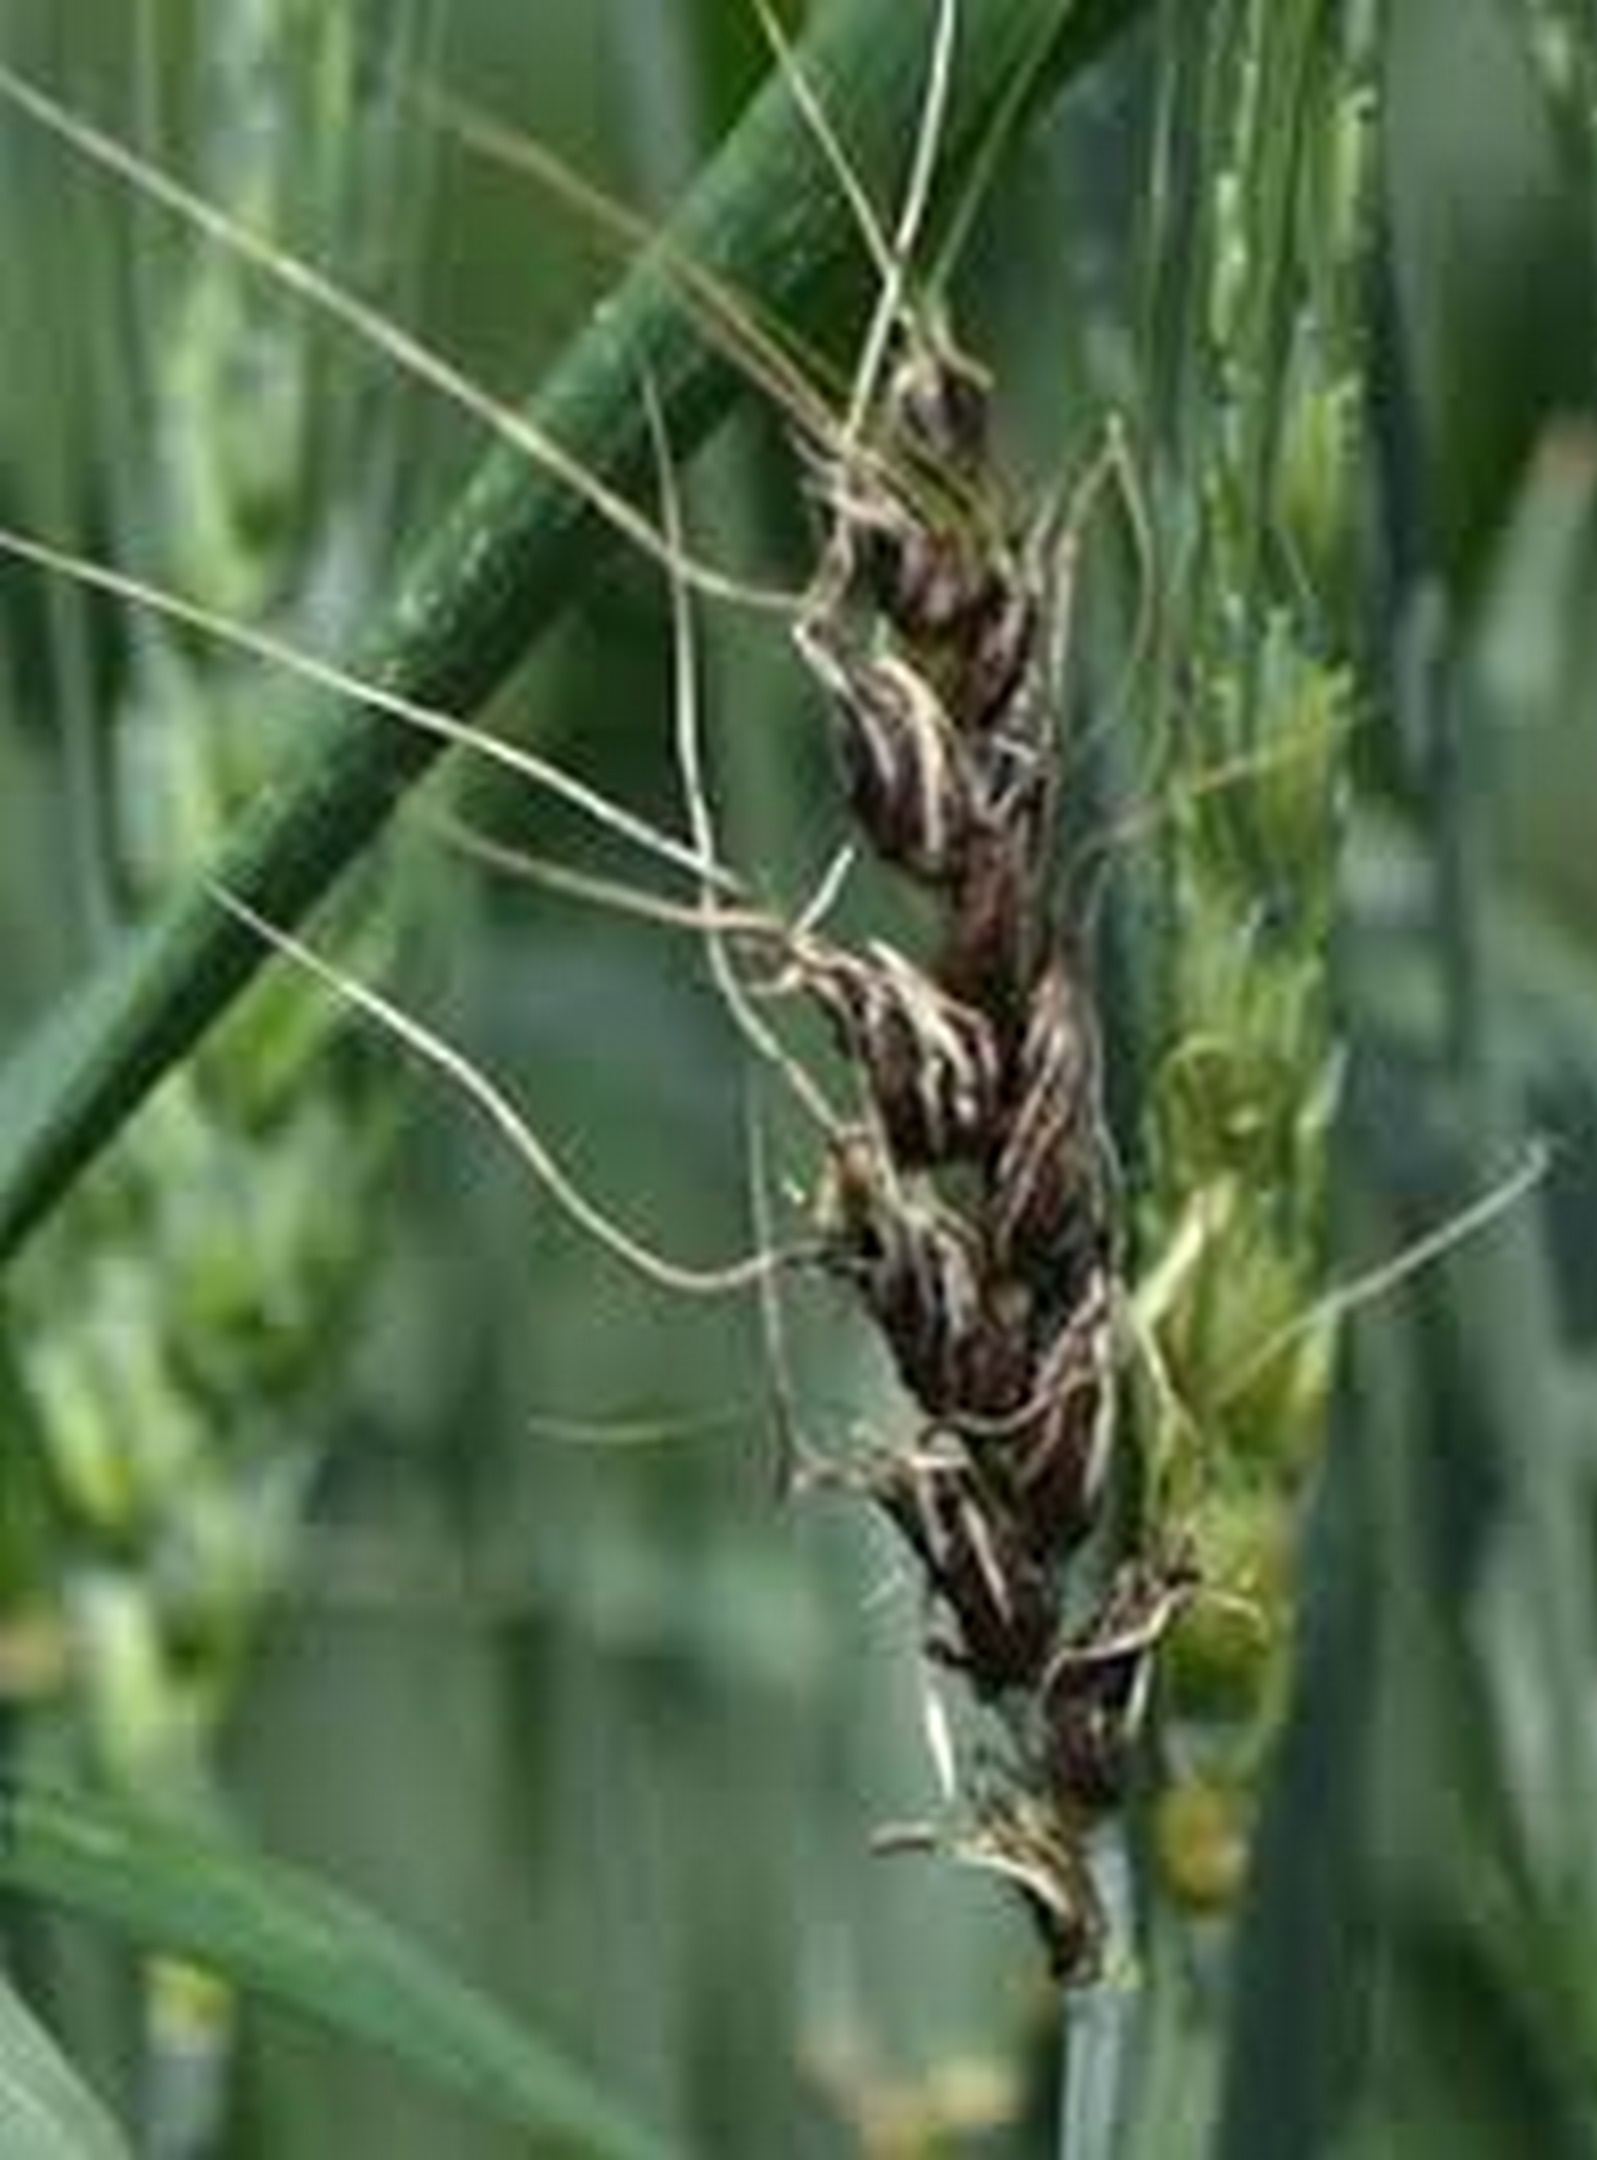Wheat Loose Smut: (715, 381, 1218, 1833)
